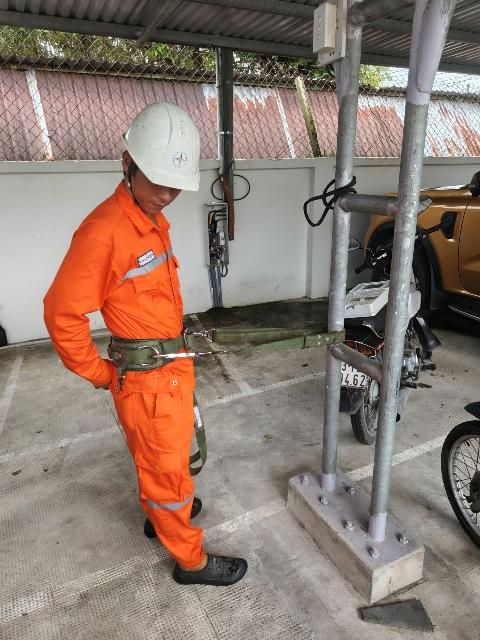harness: (87, 319, 225, 376)
helmet: (113, 99, 223, 205)
shoes: (161, 531, 249, 595), (130, 484, 211, 540)
